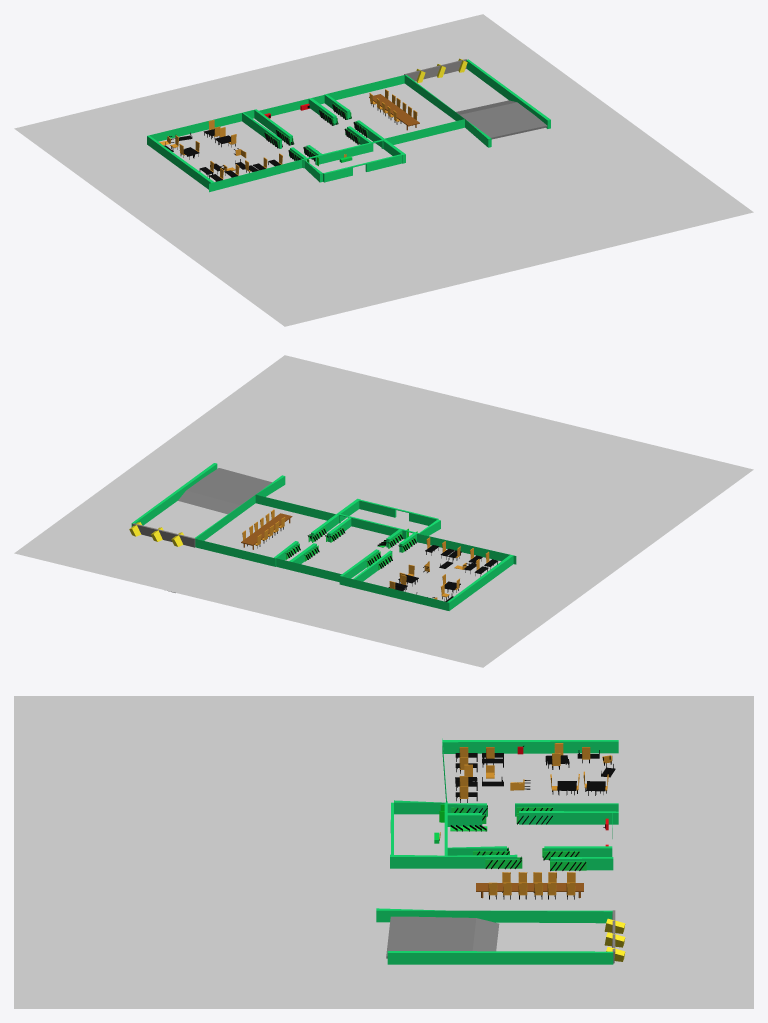
The model's file is Level1Remakeda.fbx.
3 renders of one model, top to bottom at view 1: azimuth 30°, elevation 25°; view 2: azimuth 150°, elevation 25°; view 3: azimuth 270°, elevation 25°, orthographic. The views are drawn at different scales.
Parts seen in each view (by area): view 1: Plane.001, Cube.001, Plane, Plane.002; view 2: Plane.001, Cube.001, Plane, Plane.002; view 3: Plane.001, Cube.001, Plane, Plane.002, Cube.033.
Part boxes in pixels (bbox=[...]): Plane.001: bbox=[14, 14, 753, 326]; Cube.001: bbox=[147, 59, 550, 192]; Plane: bbox=[456, 100, 547, 139]; Plane.002: bbox=[404, 58, 467, 82]; Plane.001: bbox=[14, 355, 753, 667]; Cube.001: bbox=[131, 463, 516, 610]; Plane: bbox=[168, 468, 271, 592]; Plane.002: bbox=[129, 522, 195, 547]; Plane.001: bbox=[14, 696, 753, 1008]; Cube.001: bbox=[376, 738, 618, 964]; Plane: bbox=[386, 916, 499, 958]; Plane.002: bbox=[604, 910, 625, 963]; Cube.033: bbox=[476, 883, 583, 898].
Bounding box in the file's own units: 48318 × 4419 × 48318.
